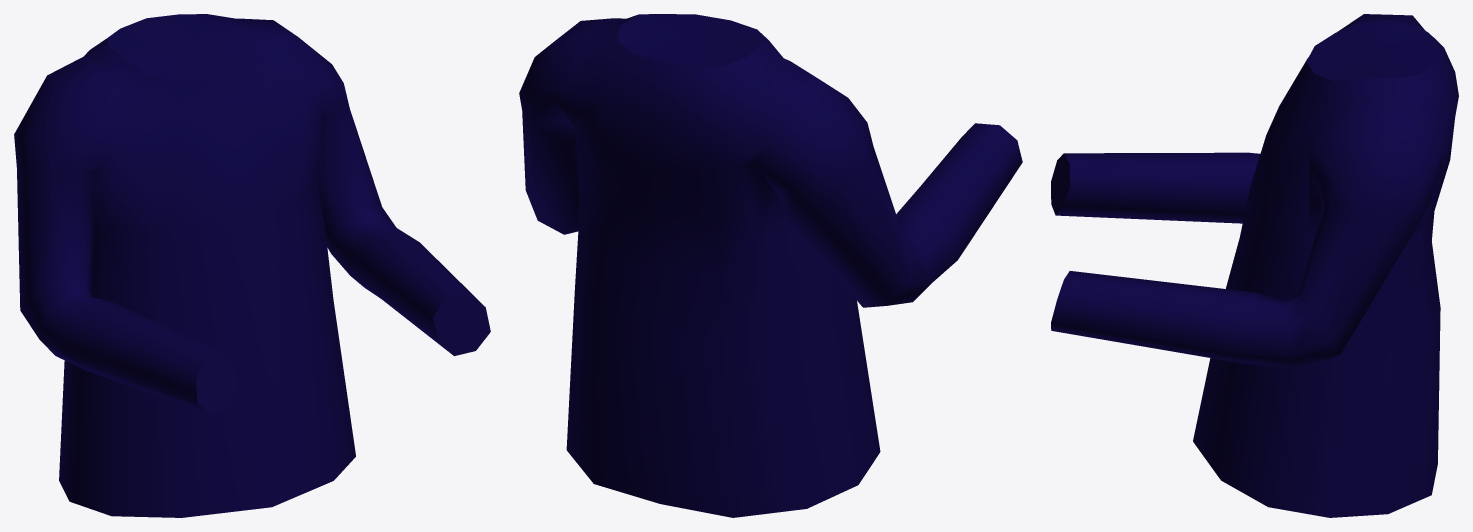
File: Racer_Jacket_02.fbx
3 views of the same model, side by side, from view 1: azimuth 30°, elevation 25°; view 2: azimuth 150°, elevation 25°; view 3: azimuth 270°, elevation 25° (orthographic). The views are drawn at different scales.
Parts seen in each view (by area): view 1: Racer_Jacket_02; view 2: Racer_Jacket_02; view 3: Racer_Jacket_02.
Part boxes in pixels (x1,y1,x2,y2): Racer_Jacket_02: (14,14,490,517); Racer_Jacket_02: (519,14,1022,517); Racer_Jacket_02: (1051,14,1458,517).
Bounding box in the file's own units: 46.22 × 45.49 × 51.06.
